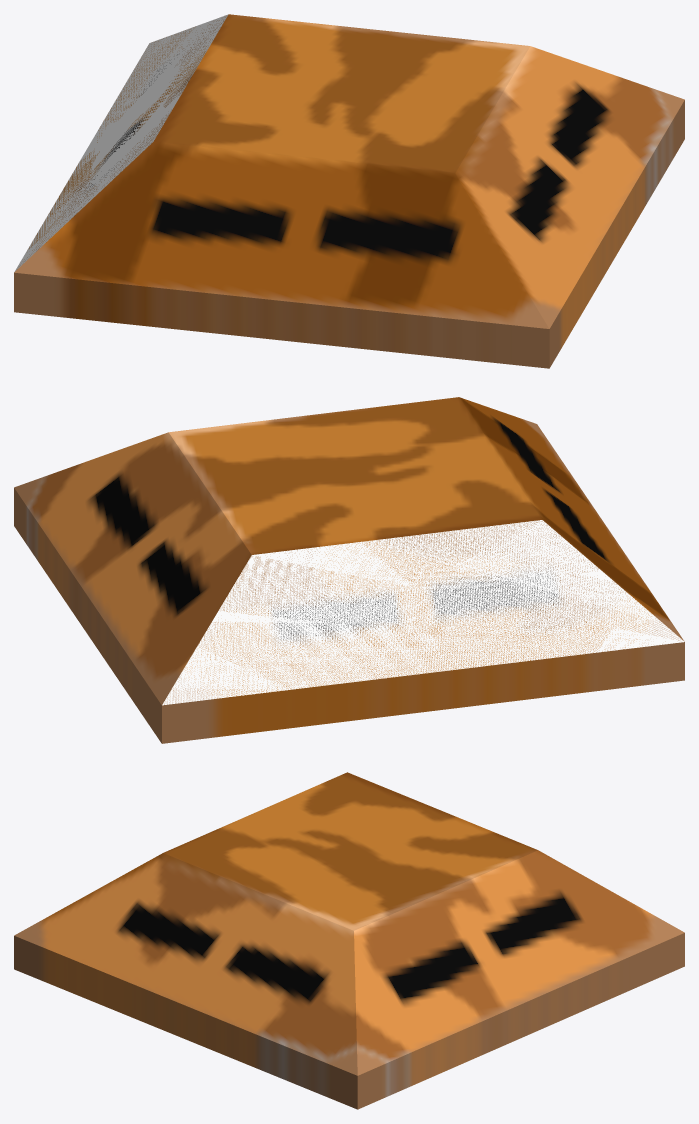
The model's file is HZBunker.dae.
3 views of the same model, one above another, from view 1: azimuth 30°, elevation 25°; view 2: azimuth 150°, elevation 25°; view 3: azimuth 270°, elevation 25° (orthographic). The views are drawn at different scales.
Visible parts, largest first — view 1: instance_0 (×2); view 2: instance_0 (×2); view 3: instance_0 (×2).
Boxes of the visible parts, x1,y1,x2,y2 form: instance_0 (×2): (14,14,684,368); instance_0 (×2): (14,397,684,743); instance_0 (×2): (14,772,684,1109).
Bounding box in the file's own units: 56.24 × 56.26 × 10.5.
